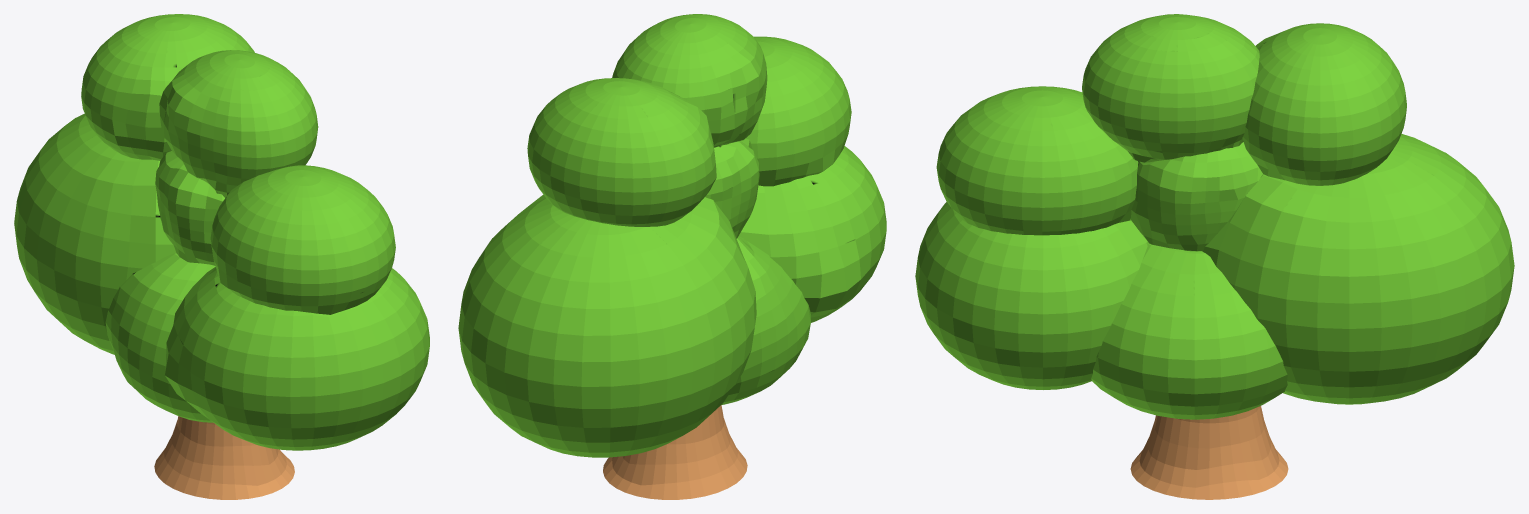
The model's file is Big TreeT.fbx.
The picture shows the model from 3 angles, left to right: view 1: azimuth 30°, elevation 25°; view 2: azimuth 150°, elevation 25°; view 3: azimuth 270°, elevation 25°; orthographic projection. The views are drawn at different scales.
Parts seen in each view (by area): view 1: Tree; view 2: Tree; view 3: Tree.
Part boxes in pixels (left/top/right/bottom): Tree: left=14, top=14, right=429, bottom=499; Tree: left=458, top=14, right=886, bottom=499; Tree: left=915, top=14, right=1514, bottom=499.
Bounding box in the file's own units: 693 × 1076 × 1309.
